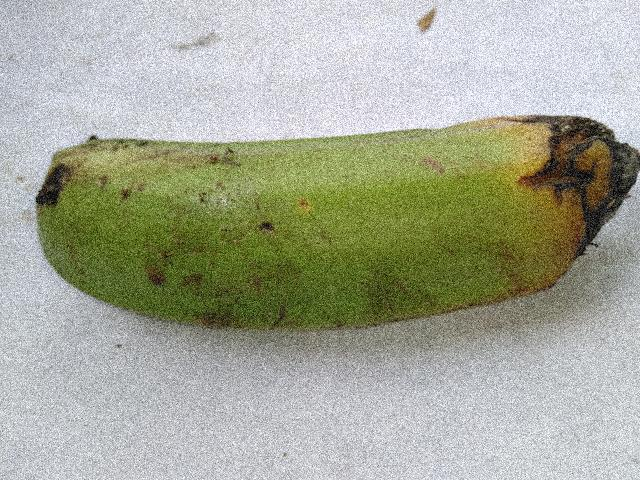rotten: (498, 60, 639, 314)
unripe: (45, 100, 559, 321)
